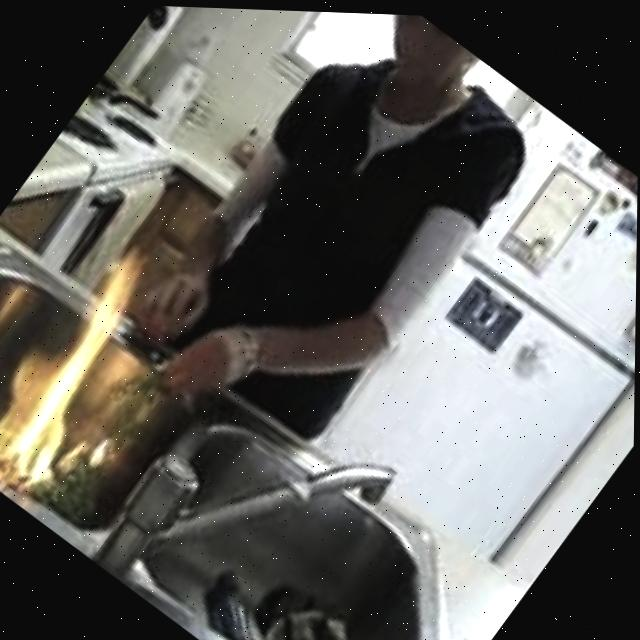Fire: (0, 219, 228, 532)
